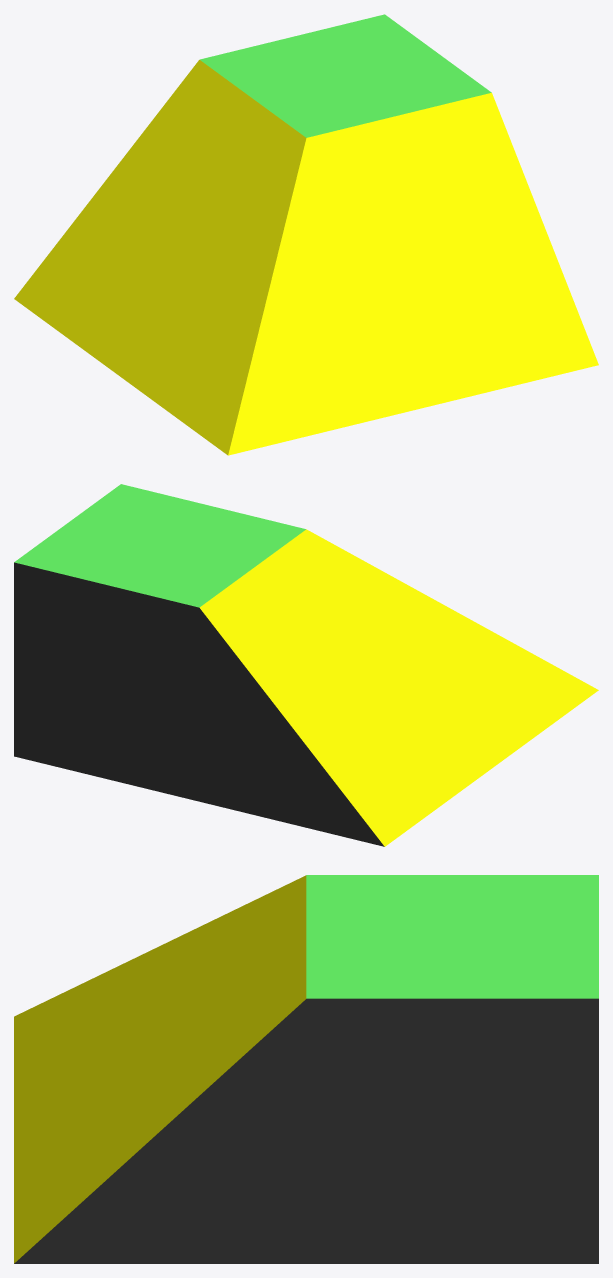
The model's file is dijiao.dae.
The picture shows the model from 3 angles, top to bottom: view 1: azimuth 30°, elevation 25°; view 2: azimuth 150°, elevation 25°; view 3: azimuth 270°, elevation 25°; orthographic projection. The views are drawn at different scales.
Visible parts, largest first — view 1: dijiao (×2); view 2: dijiao (×3); view 3: dijiao (×3).
Boxes of the visible parts, <box> form: dijiao (×2): <box>14,14,598,455</box>; dijiao (×3): <box>14,484,598,846</box>; dijiao (×3): <box>14,875,598,1263</box>.
Bounding box in the file's own units: 39.37 × 39.37 × 19.69.
